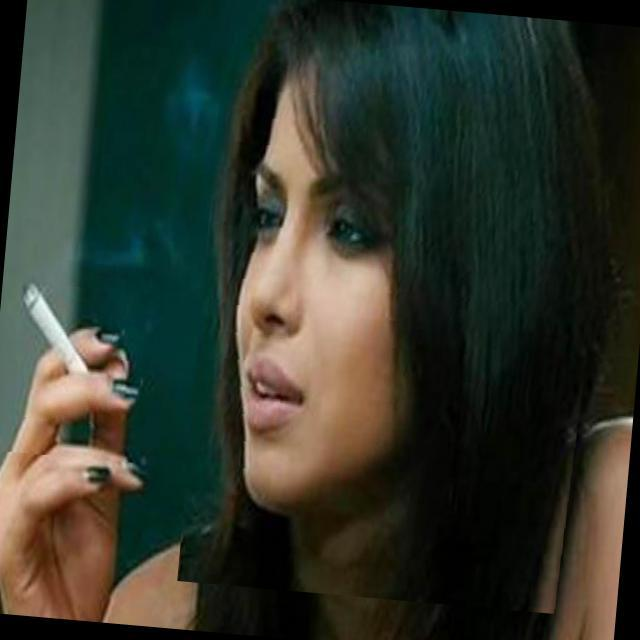cigarette: (0, 244, 150, 462)
